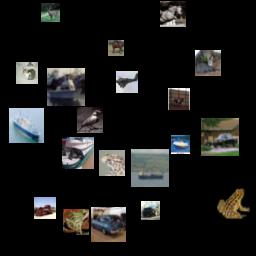airplane: (116, 71, 138, 93)
automobile: (201, 118, 239, 156), (91, 207, 126, 242), (141, 201, 160, 220)
bird: (77, 107, 103, 133)
cat: (195, 50, 221, 76), (16, 62, 38, 84)
deer: (41, 3, 60, 22)
frog: (215, 187, 250, 222), (63, 209, 89, 235), (99, 150, 125, 176)
ship: (47, 68, 85, 106), (131, 149, 169, 187), (9, 108, 44, 143), (62, 137, 94, 169), (171, 135, 190, 154)
truck: (34, 197, 56, 219)
